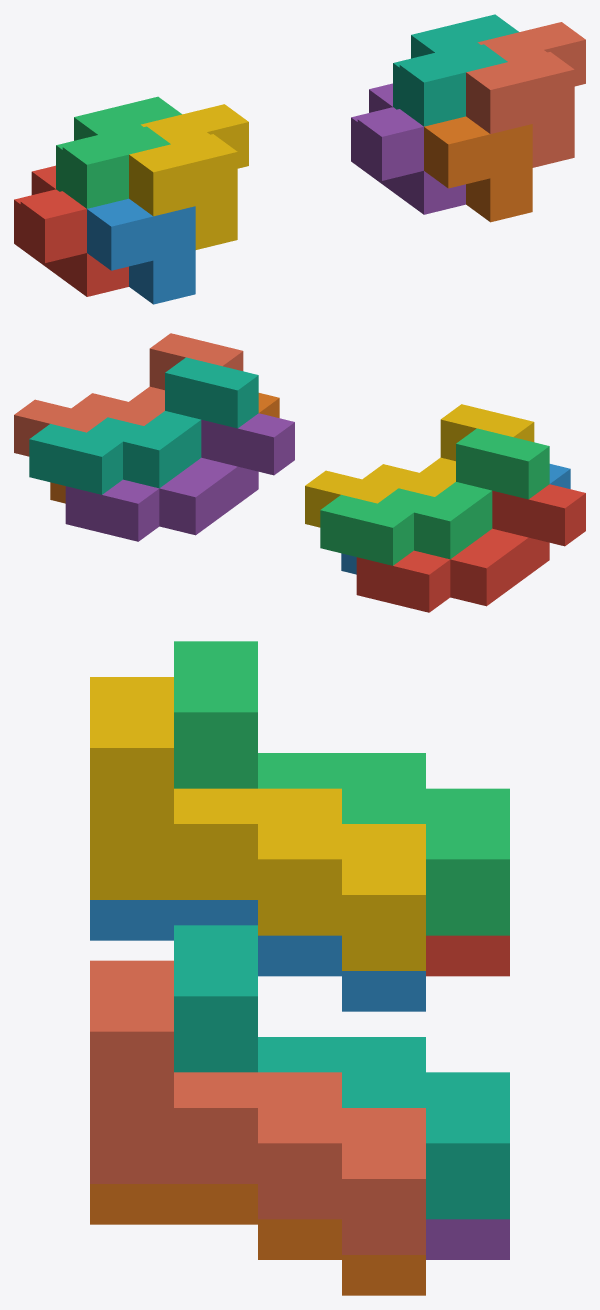
The model's file is tiling.obj.
3 views of the same model, one above another, from view 1: azimuth 30°, elevation 25°; view 2: azimuth 150°, elevation 25°; view 3: azimuth 270°, elevation 25° (orthographic). The views are drawn at different scales.
Parts seen in each view (by area): view 1: copy_1_domain_4, copy_1_domain_8, copy_1_domain_2, copy_1_domain_6, copy_1_domain_3, copy_1_domain_7, copy_1_domain_1, copy_1_domain_5; view 2: copy_1_domain_3, copy_1_domain_7, copy_1_domain_5, copy_1_domain_1, copy_1_domain_4, copy_1_domain_8, copy_1_domain_6, copy_1_domain_2; view 3: copy_1_domain_8, copy_1_domain_4, copy_1_domain_3, copy_1_domain_7, copy_1_domain_6, copy_1_domain_2, copy_1_domain_1, copy_1_domain_5.
Boxes of the visible parts, x1,y1,x2,y2 form: copy_1_domain_4: [129, 104, 248, 249]; copy_1_domain_8: [466, 22, 585, 167]; copy_1_domain_2: [87, 198, 195, 304]; copy_1_domain_6: [424, 116, 532, 222]; copy_1_domain_3: [56, 96, 181, 208]; copy_1_domain_7: [393, 14, 519, 126]; copy_1_domain_1: [14, 165, 128, 296]; copy_1_domain_5: [351, 83, 465, 214]; copy_1_domain_3: [320, 428, 549, 565]; copy_1_domain_7: [29, 357, 258, 494]; copy_1_domain_5: [65, 413, 294, 541]; copy_1_domain_1: [356, 484, 585, 612]; copy_1_domain_4: [305, 404, 534, 527]; copy_1_domain_8: [14, 333, 243, 456]; copy_1_domain_6: [50, 393, 279, 503]; copy_1_domain_2: [341, 464, 570, 574]; copy_1_domain_8: [90, 960, 425, 1254]; copy_1_domain_4: [90, 677, 425, 970]; copy_1_domain_3: [174, 641, 509, 935]; copy_1_domain_7: [174, 925, 509, 1219]; copy_1_domain_6: [90, 1184, 425, 1295]; copy_1_domain_2: [90, 900, 425, 1011]; copy_1_domain_1: [426, 935, 509, 976]; copy_1_domain_5: [426, 1219, 509, 1259].
Size of the model in its own units: 14 by 3 by 5.
